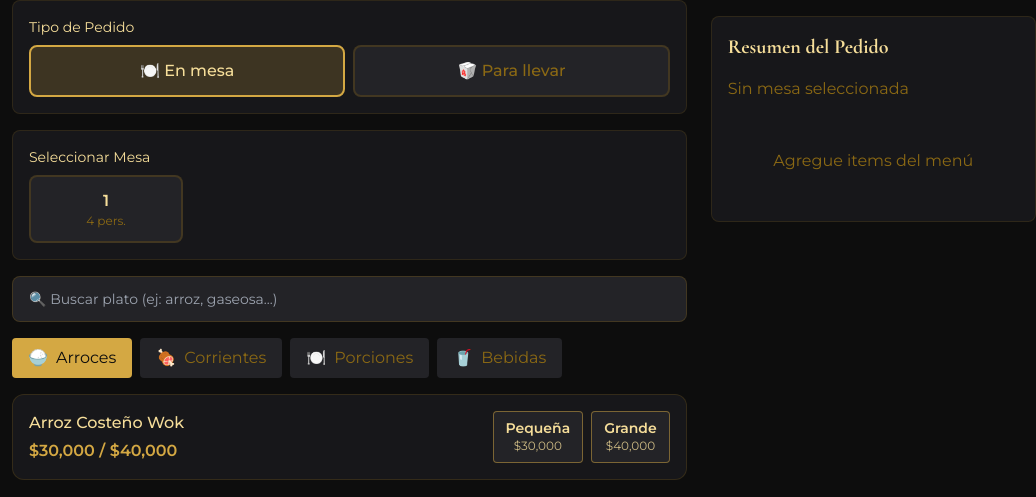
Test: agrega un item con tamaño y calcula subtotal y total sin IVA extra
What coordinates should you click on to do the following:
click the button with aria-label "Grande Arroz Costeño Wok"
I would click on:
 (630, 437)
Its box is [591,411,670,463].
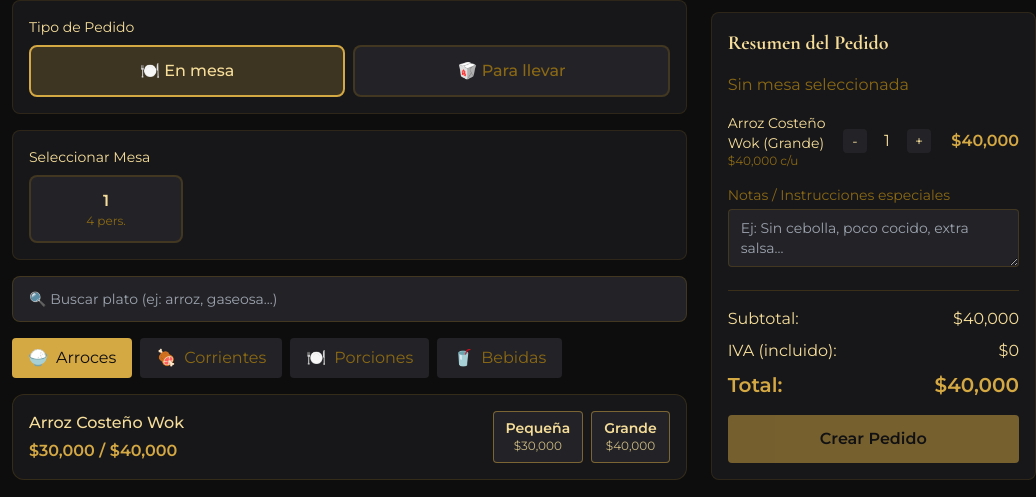
Expected: the text "Arroz Costeño Wok (Grande)" is shown, [728,114,826,152]
